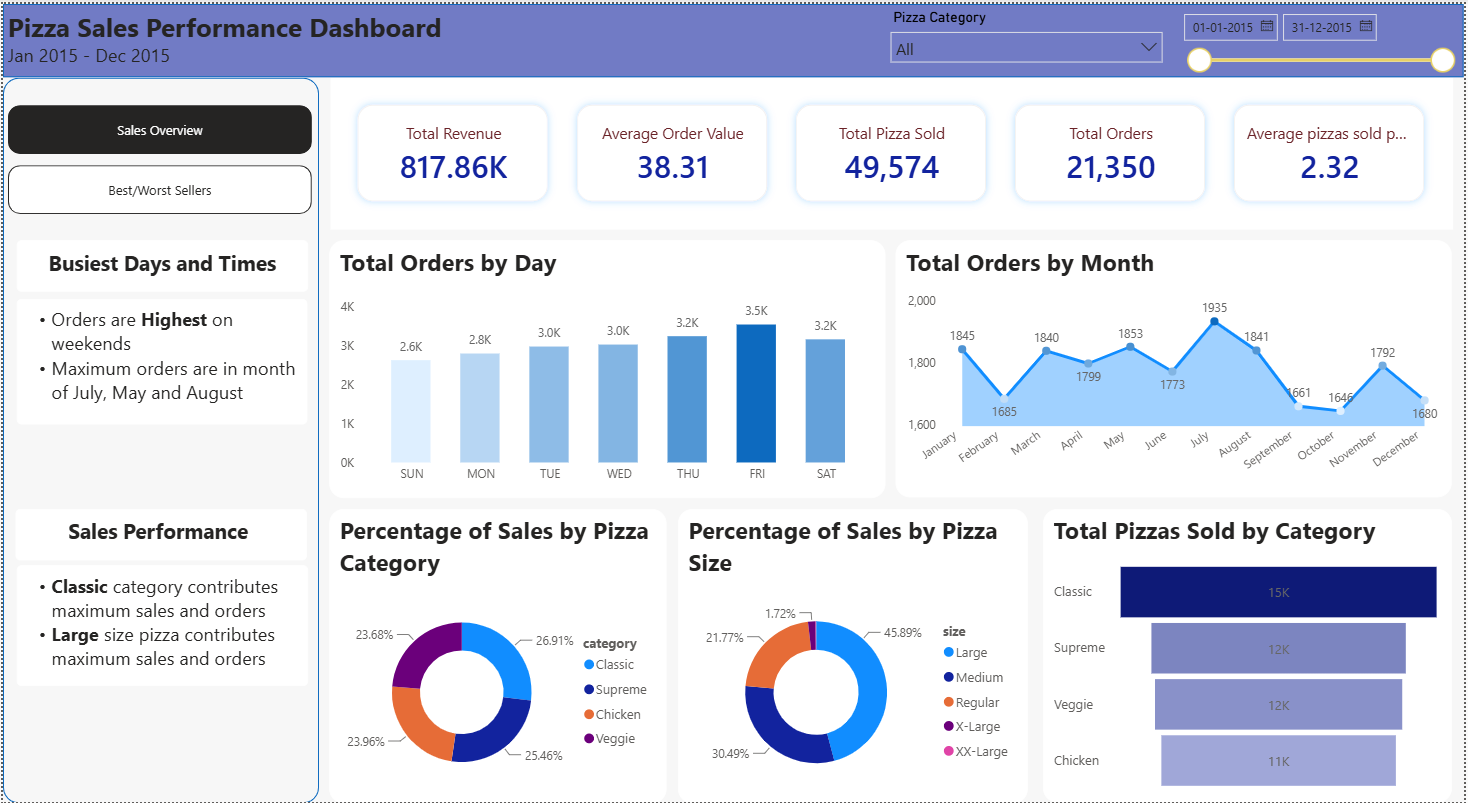

What the dashboard file says about the page in this screenshot:
{"tool":"powerbi","page":{"name":"Home","canvas":[1500,820],"ordinal":0},"visuals":[{"type":"cardVisual","title":"KPI","fields":{"Data":["orders_details.Total Revenue","orders_details.Average Order Value","orders_details.Total Pizza Sold","orders_details.Total Orders","orders_details.Average pizzas sold per order"]},"box":[335.7,75.7,1152.9,155.7],"z":0},{"type":"columnChart","title":"Total Orders by Day","fields":{"Category":["orders.Order day"],"Y":["orders_details.Total Orders"]},"box":[335.6,242.3,571,264.6],"z":1000},{"type":"areaChart","fields":{"Category":["orders.order_date.Variation.Date Hierarchy.Month"],"Y":["orders_details.Total Orders"]},"box":[917.1,242.9,571.4,264.3],"z":2000},{"type":"donutChart","title":"Percentage of Sales by Pizza Category","fields":{"Category":["pizza_types.category"],"Y":["orders_details.Total Revenue"]},"box":[335.6,518.1,346.8,302.2],"z":3000},{"type":"donutChart","title":"Percentage of Sales by Pizza Size","fields":{"Category":["pizzas.size"],"Y":["orders_details.Total Revenue"]},"box":[693.5,518.1,359.3,302.2],"z":4000},{"type":"funnel","title":"Total Pizzas Sold by Category","fields":{"Y":["orders_details.Total Pizza Sold"],"Category":["pizza_types.category"]},"box":[1068.6,518.6,420,301.4],"z":5000},{"type":"shape","box":[0,0,1499.9,75.2],"z":6000},{"type":"textbox","box":[0,0,1499.9,75.2],"z":7000},{"type":"shape","box":[0,75.2,324.5,745.1],"z":8000},{"type":"textbox","box":[14.3,302.9,298.6,128.6],"z":9000},{"type":"textbox","box":[13.9,242.3,299.4,52.9],"z":10000},{"type":"textbox","box":[12.5,518.1,299.4,52.9],"z":11000},{"type":"textbox","box":[13.9,576.6,299.4,123.9],"z":12000},{"type":"slicer","fields":{"Values":["orders.order_date"]},"box":[1200.5,0,299.4,75.2],"z":13000},{"type":"slicer","fields":{"Values":["pizza_types.category"]},"box":[901.1,0,299.4,65],"z":14000},{"type":"pageNavigator","box":[5.7,104.3,312.9,50],"z":14001},{"type":"pageNavigator","box":[5.7,165.7,312.9,50],"z":14002}]}

Visuals, with their boxes in screenshot pixels (x1, y1, x2, y2), scaled from the page's 1500x820 canvas onto the 1468x803 screenshot:
"KPI" cardVisual: (329, 74, 1457, 227)
"Total Orders by Day" columnChart: (328, 237, 887, 496)
areaChart - orders.order_date.Variation.Date Hierarchy.Month x orders_details.Total Orders: (898, 238, 1457, 497)
"Percentage of Sales by Pizza Category" donutChart: (328, 507, 668, 802)
"Percentage of Sales by Pizza Size" donutChart: (679, 507, 1030, 802)
"Total Pizzas Sold by Category" funnel: (1046, 508, 1457, 802)
shape: (0, 0, 1467, 74)
textbox: (0, 0, 1467, 74)
shape: (0, 74, 318, 802)
textbox: (14, 297, 306, 423)
textbox: (14, 237, 307, 289)
textbox: (12, 507, 305, 559)
textbox: (14, 565, 307, 686)
slicer - orders.order_date: (1175, 0, 1467, 74)
slicer - pizza_types.category: (882, 0, 1175, 64)
pageNavigator: (6, 102, 312, 151)
pageNavigator: (6, 162, 312, 211)
